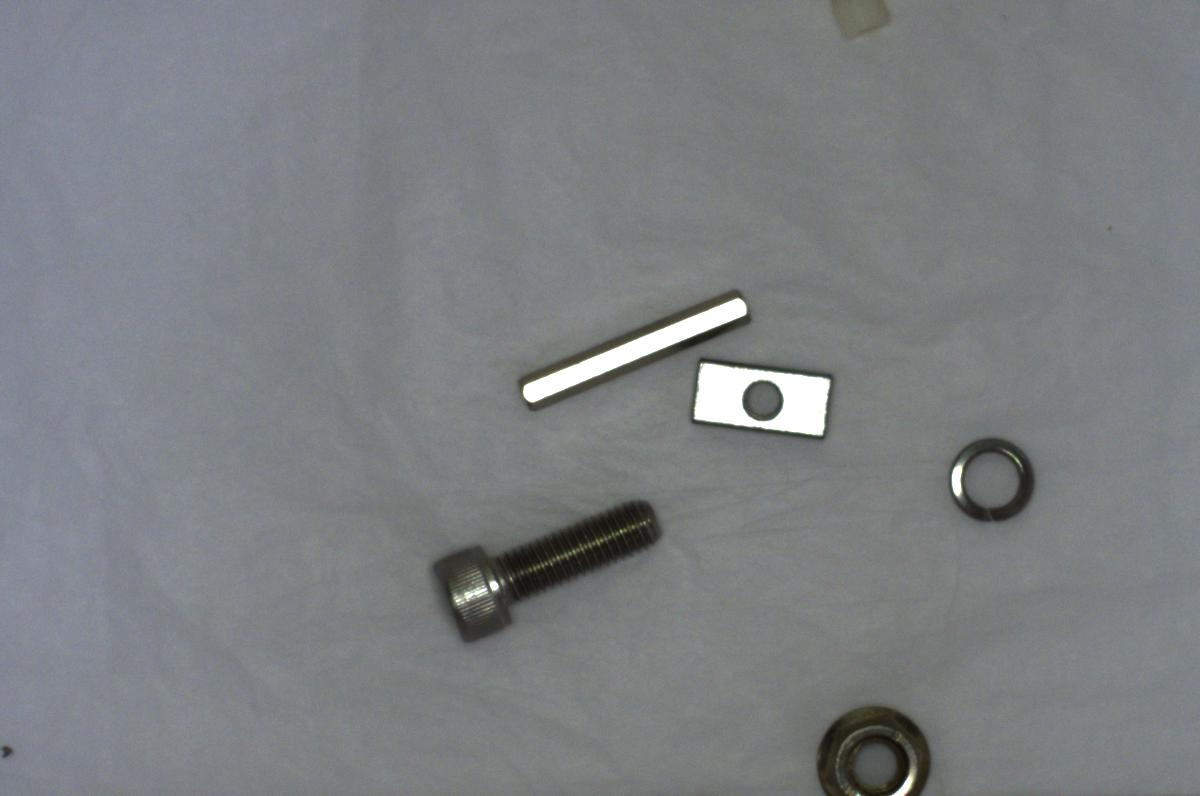Double hexagonal column: (511, 289, 753, 401)
Flange nut: (802, 692, 944, 795)
Hexagon screw: (423, 494, 665, 644)
Plastic cushion pillar: (825, 0, 902, 46)
Rectangular nut: (684, 354, 832, 444)
Spring washer: (939, 424, 1044, 531)
